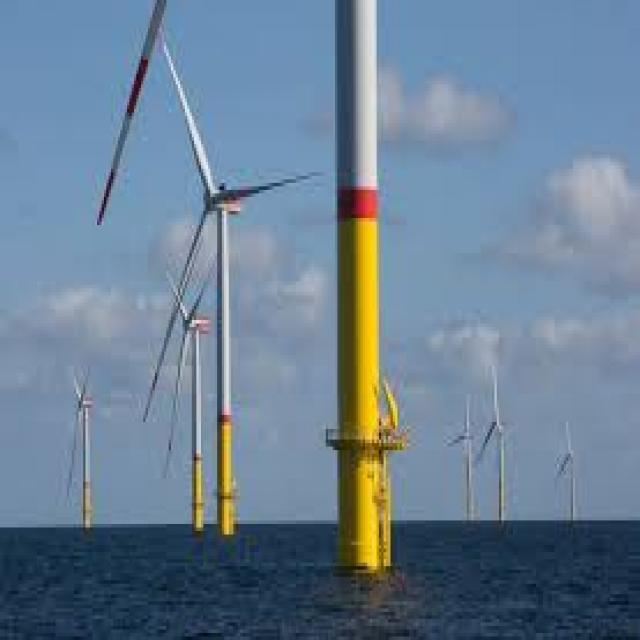solid-blade: (162, 41, 219, 197), (226, 172, 320, 198)
